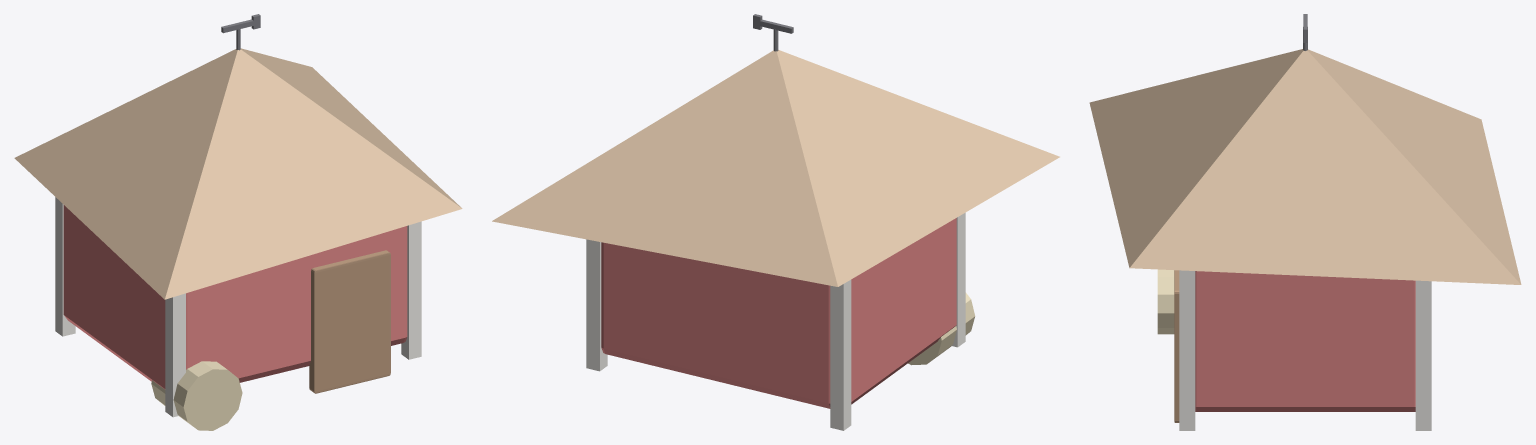
The model's file is barn.glb.
The picture shows the model from 3 angles, left to right: view 1: azimuth 30°, elevation 25°; view 2: azimuth 150°, elevation 25°; view 3: azimuth 270°, elevation 25°; orthographic projection. The views are drawn at different scales.
Parts seen in each view (by area): view 1: BnRoof, BnBody, BnDoor, BarnTrim, BnHay, BarnVane; view 2: BnRoof, BnBody, BarnTrim, BnHay; view 3: BnRoof, BnBody, BarnTrim, BnHay, BnDoor.
Boxes of the visible parts, x1,y1,x2,y2 form: BnRoof: (14, 48, 462, 299); BnBody: (63, 205, 407, 389); BnDoor: (309, 250, 390, 393); BarnTrim: (55, 197, 421, 417); BnHay: (151, 361, 242, 430); BarnVane: (221, 14, 260, 50); BnRoof: (492, 50, 1059, 286); BnBody: (601, 218, 956, 408); BarnTrim: (586, 212, 965, 430); BnHay: (908, 292, 975, 365); BnRoof: (1089, 49, 1521, 284); BnBody: (1195, 271, 1415, 411); BarnTrim: (1179, 270, 1431, 430); BnHay: (1157, 269, 1174, 334); BnDoor: (1174, 270, 1179, 422).
Size of the model in its own units: 5.92 by 5.47 by 5.92.
